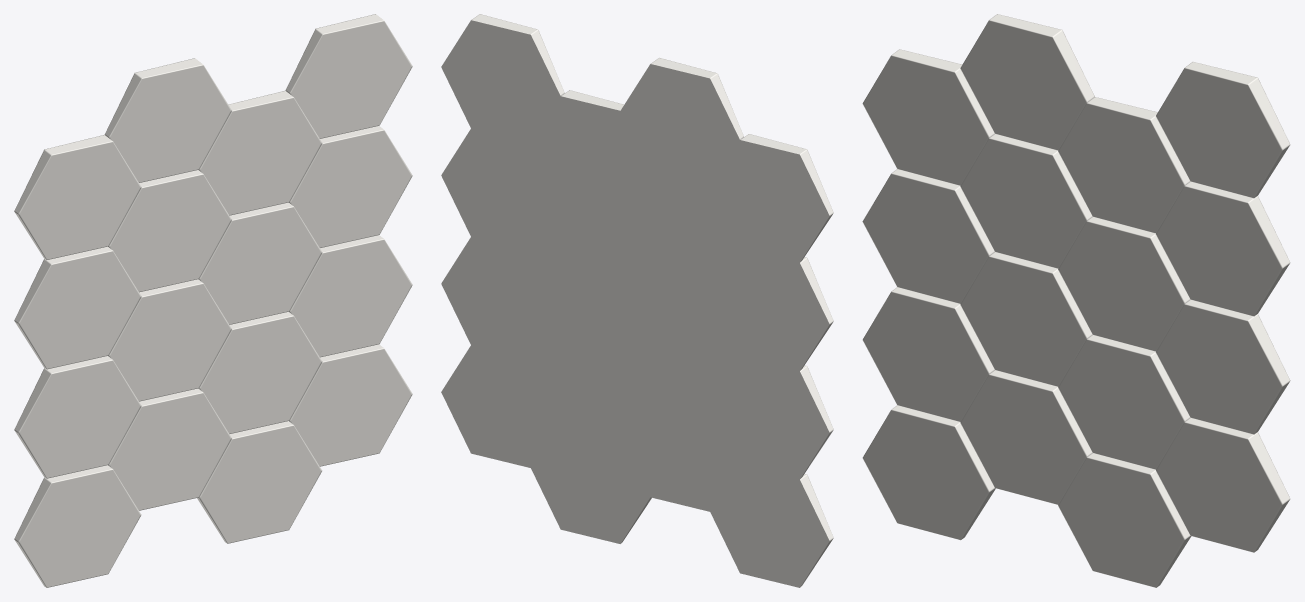
The model's file is miror.glb.
3 renders of one model, left to right at view 1: azimuth 30°, elevation 25°; view 2: azimuth 150°, elevation 25°; view 3: azimuth 330°, elevation 25°, orthographic. The views are drawn at different scales.
Parts seen in each view (by area): view 1: mirr; view 2: mirr; view 3: mirr.
Boxes of the visible parts, x1,y1,x2,y2 form: mirr: (14,14,412,587); mirr: (441,14,833,587); mirr: (862,14,1290,587).
Bounding box in the file's own units: 45.5 × 54.56 × 1.77.
1 material, 1 textured.
